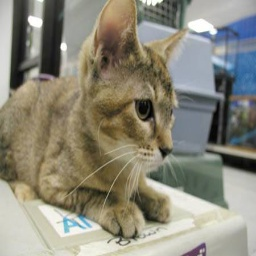cat: (3, 3, 182, 234)
